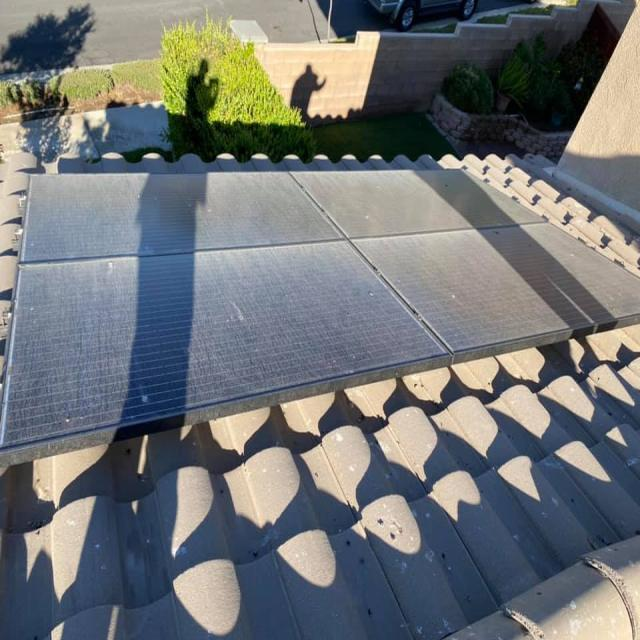dust-solar-panel: (4, 165, 640, 455)
